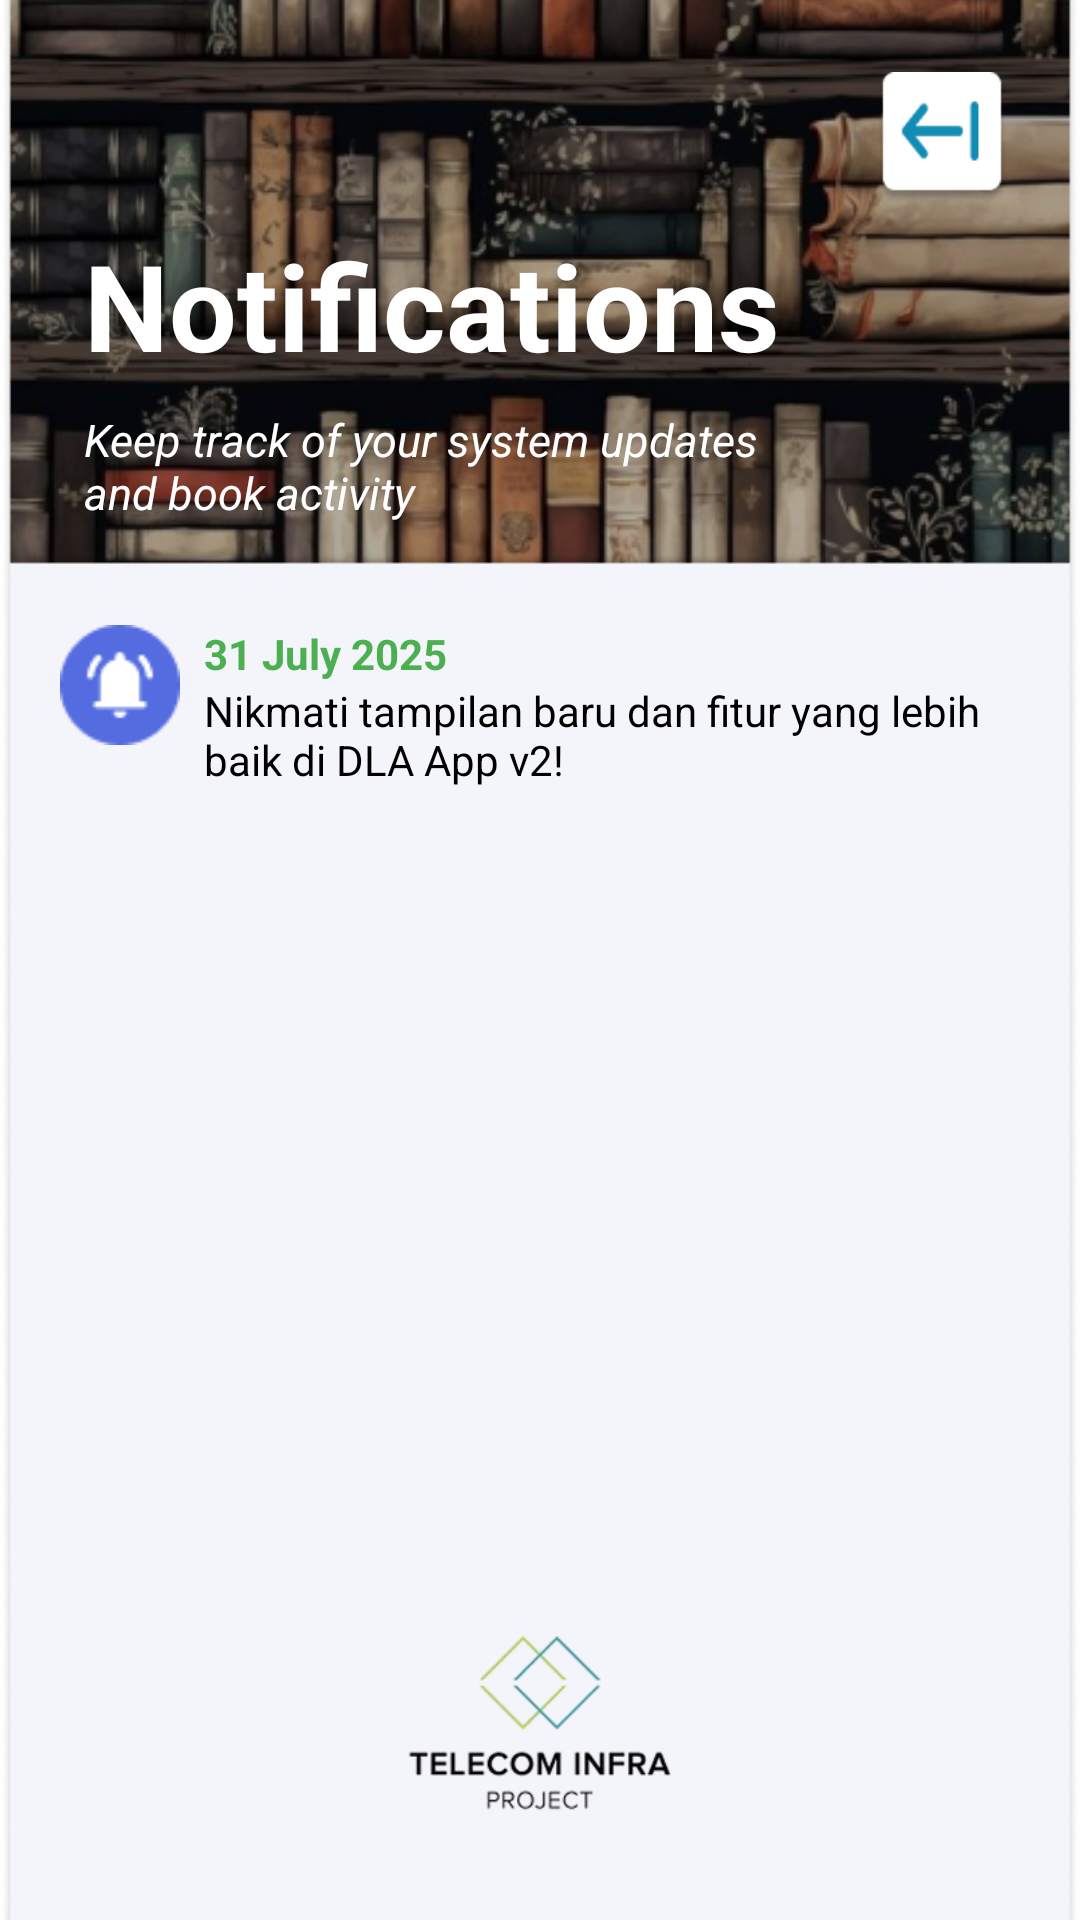

Icons on this 1080w x 1920h Android screen, each with the point to tap as [x,y]:
Back Button: [942,138]
notif: [120,685]
